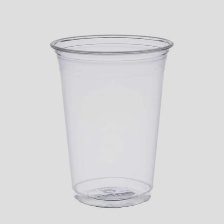glass: (47, 25, 178, 209)
